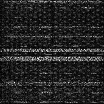lte: (1, 48, 104, 53), (1, 56, 104, 61)
